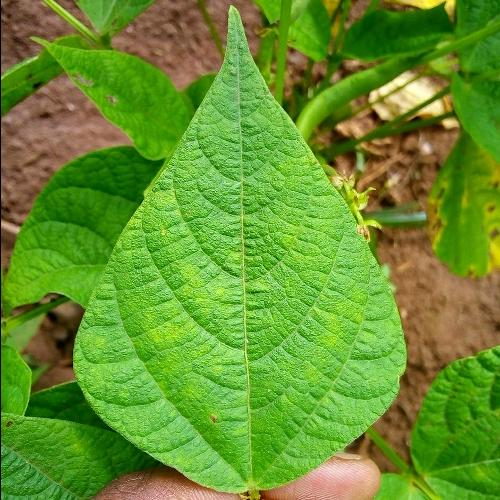mozaik: (270, 279, 376, 422), (132, 275, 235, 421)
sehat: (208, 122, 276, 194)
